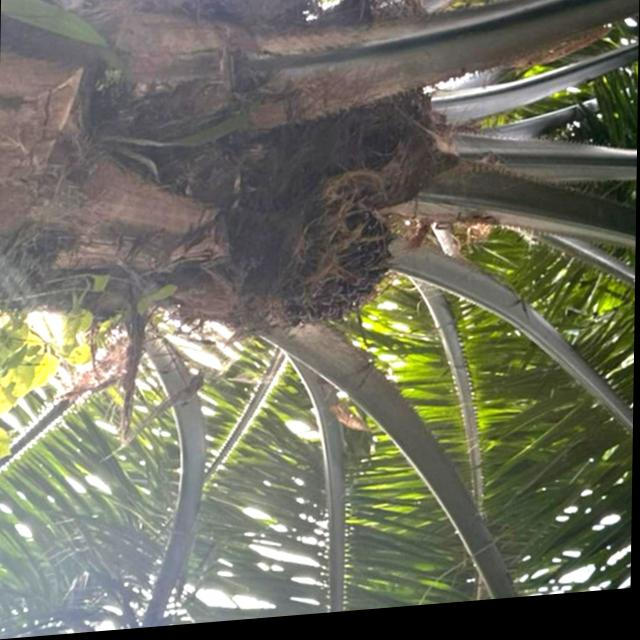ripe: (280, 207, 404, 332)
